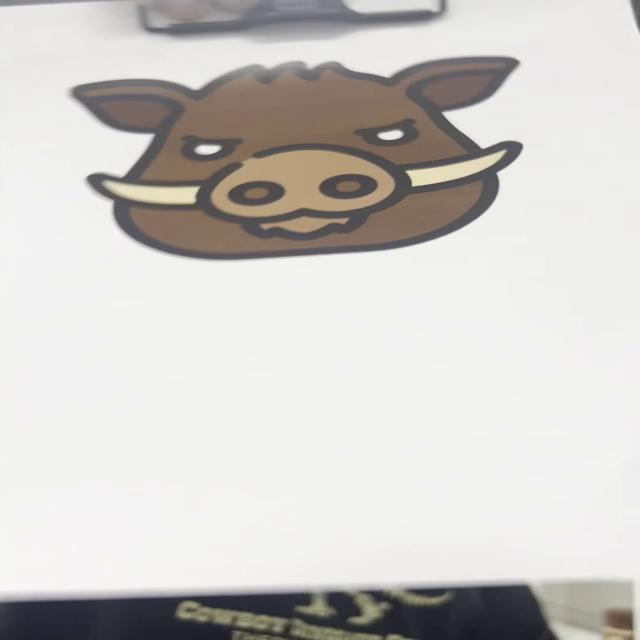animal: (60, 52, 539, 261)
